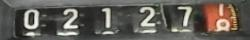digits: (139, 6, 157, 27), (22, 8, 40, 29), (62, 8, 79, 30), (176, 5, 192, 28), (101, 7, 112, 29), (215, 19, 229, 33)
